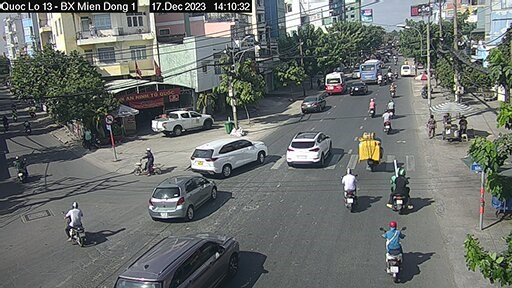car: (138, 233, 244, 288), (148, 173, 215, 215), (194, 138, 265, 175), (152, 109, 219, 135), (288, 133, 331, 165), (322, 73, 347, 99), (299, 96, 331, 116), (360, 58, 383, 83), (350, 83, 369, 96)
motorbike: (376, 220, 413, 279), (58, 205, 92, 250), (339, 165, 363, 216), (386, 167, 410, 210), (130, 147, 161, 176), (9, 152, 30, 182), (365, 96, 379, 123), (379, 113, 395, 132)
